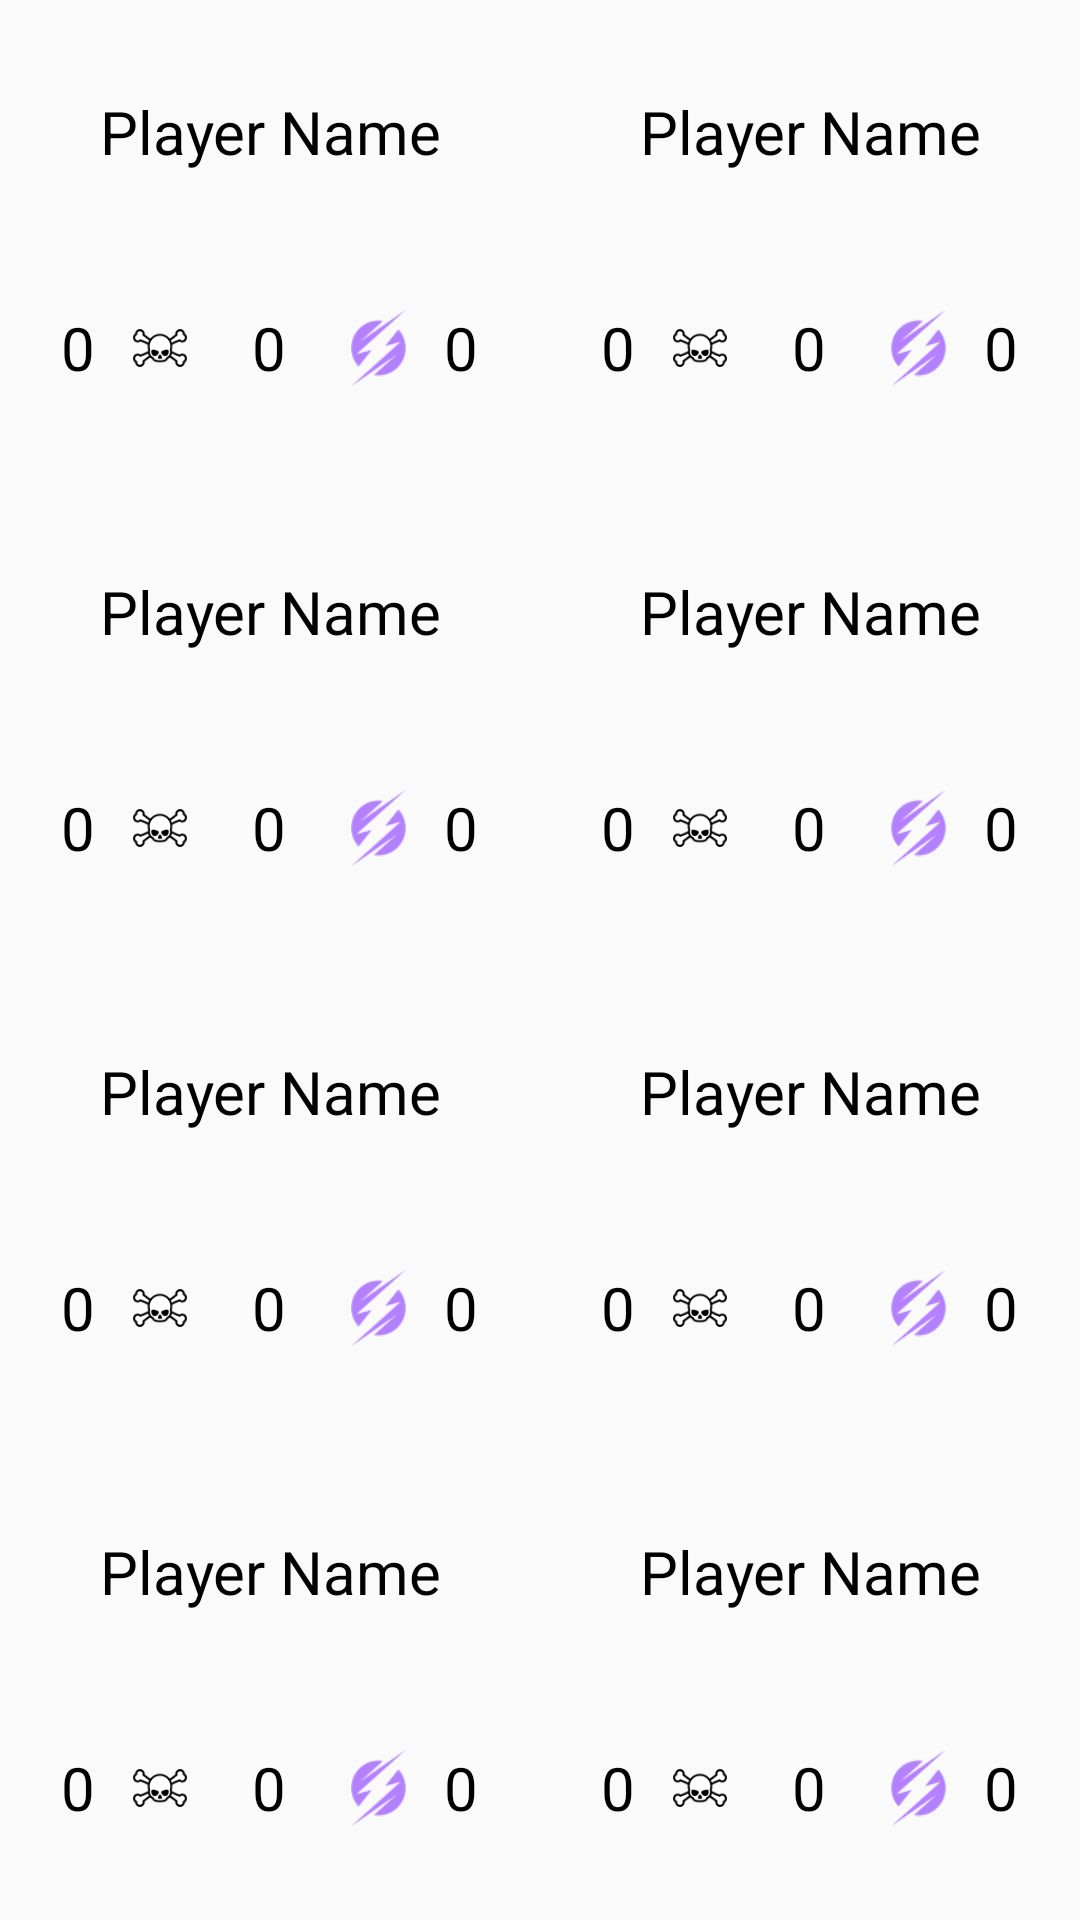

Named icons in this screenshot (1080×1920) and their bounding boxes, (x1, y1, x2, y2):
counter energy: (351, 311, 406, 385), (891, 311, 946, 385), (351, 791, 406, 865), (891, 791, 946, 865), (351, 1271, 406, 1345), (891, 1271, 946, 1345), (351, 1751, 406, 1825), (891, 1751, 946, 1825)
counter poison: (133, 329, 187, 367), (673, 329, 727, 367), (133, 809, 187, 847), (673, 809, 727, 847), (133, 1289, 187, 1327), (673, 1289, 727, 1327), (133, 1769, 187, 1807), (673, 1769, 727, 1807)
